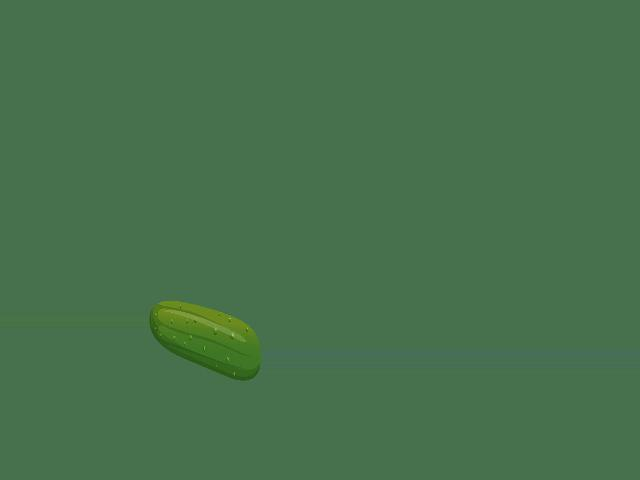cucumber: (149, 301, 261, 381)
